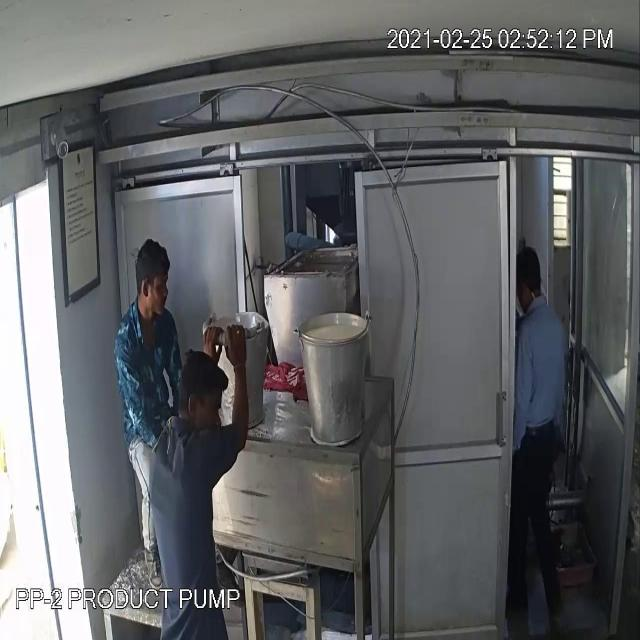no-helmet: (176, 349, 230, 407), (129, 232, 177, 292)
